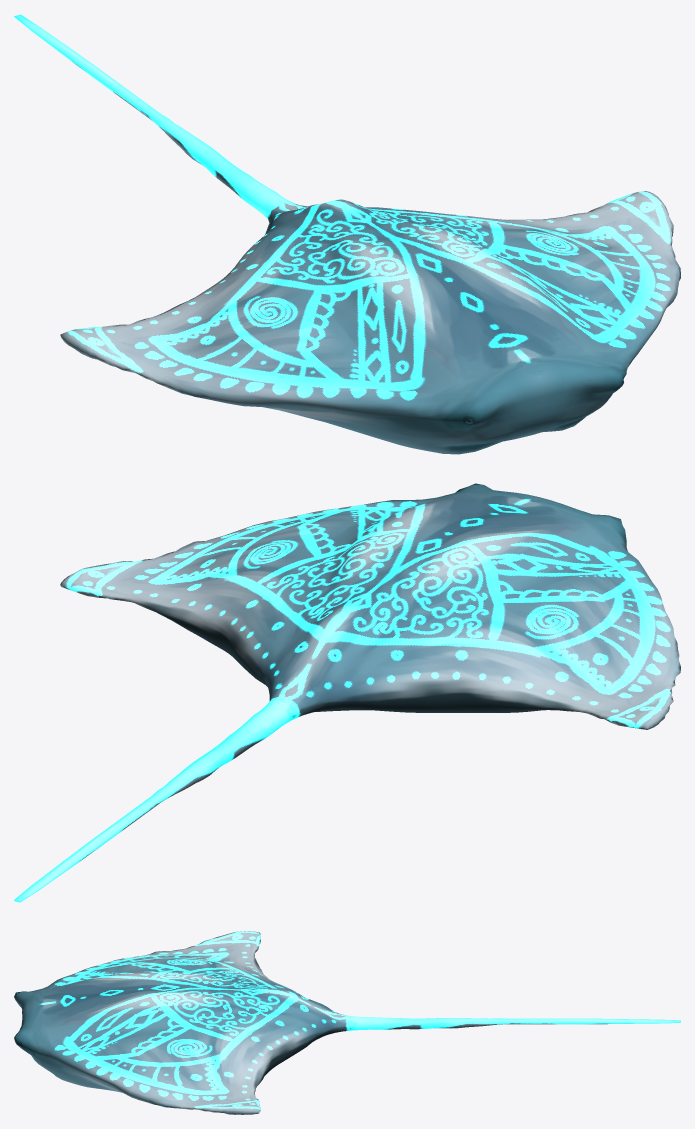
File: mantaRayTest_edit_for_FBX.fbx
3 views of the same model, one above another, from view 1: azimuth 30°, elevation 25°; view 2: azimuth 150°, elevation 25°; view 3: azimuth 270°, elevation 25° (orthographic). The views are drawn at different scales.
Visible parts, largest first — view 1: mantaRayTest; view 2: mantaRayTest; view 3: mantaRayTest.
Boxes of the visible parts, <box> form: mantaRayTest: <box>14,14,680,454</box>; mantaRayTest: <box>14,483,680,902</box>; mantaRayTest: <box>14,931,680,1114</box>.
Size of the model in its own units: 290 by 62.05 by 453.
